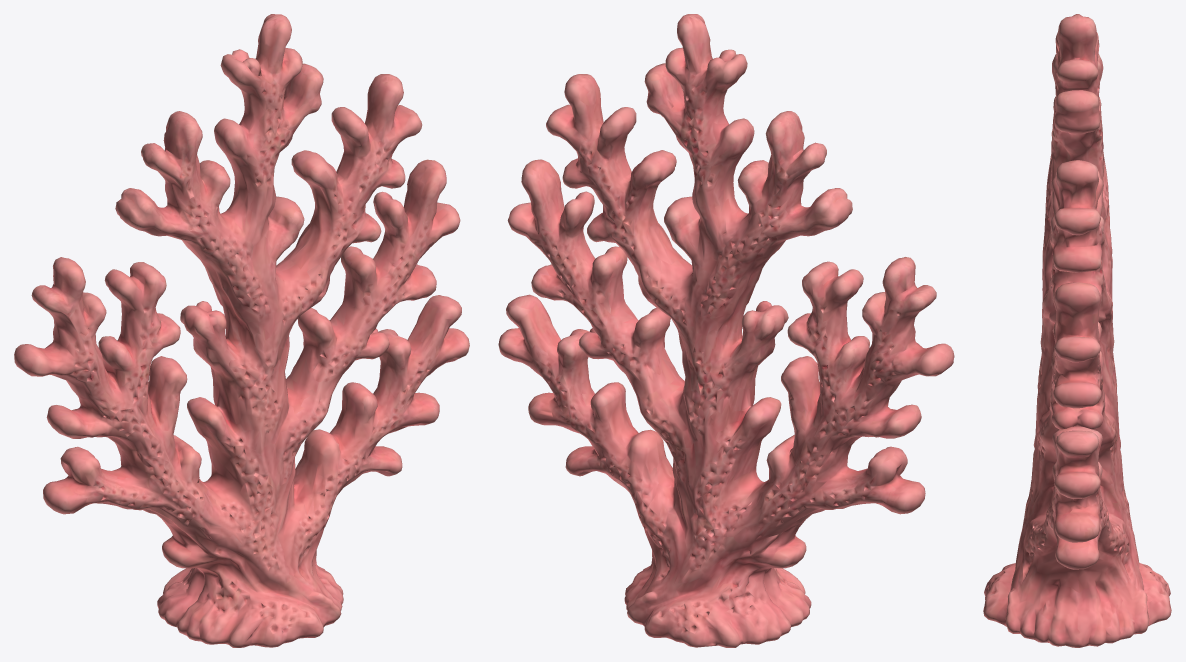
3 renders of one model, left to right at view 1: azimuth 30°, elevation 25°; view 2: azimuth 150°, elevation 25°; view 3: azimuth 270°, elevation 25°, orthographic. The views are drawn at different scales.
Size of the model in its own units: 1.52 by 1.9 by 0.5374.
1 material, 1 textured.
